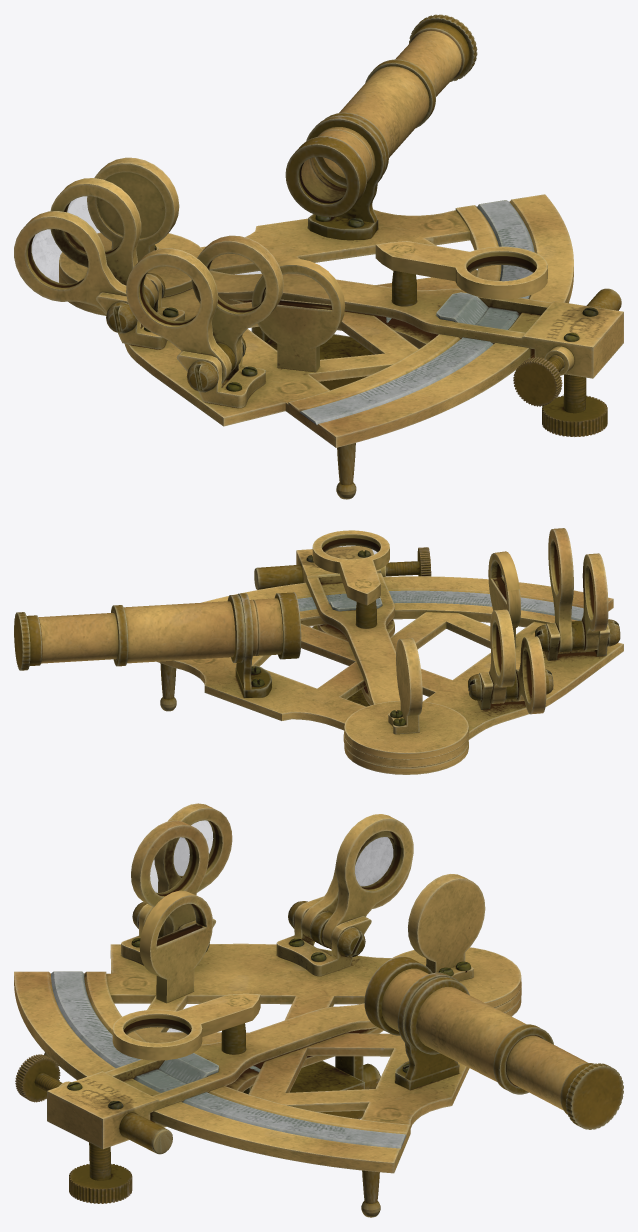
Rendered from vintage-sextant.glb.
3 views of the same model, one above another, from view 1: azimuth 30°, elevation 25°; view 2: azimuth 150°, elevation 25°; view 3: azimuth 270°, elevation 25° (orthographic). The views are drawn at different scales.
Parts seen in each view (by area): view 1: Body_Lowpoly, Magnifier_Lowpoly, Scope_Lowpoly, Lenses_Lowpoly, Middle_Lowpoly, Hinges_Lowpoly, Scope2_Lowpoly, Block_Lowpoly, Screws_Lowpoly; view 2: Body_Lowpoly, Magnifier_Lowpoly, Scope_Lowpoly, Hinges_Lowpoly, Middle_Lowpoly, Scope2_Lowpoly, Lenses_Lowpoly, Screws_Lowpoly; view 3: Body_Lowpoly, Magnifier_Lowpoly, Scope_Lowpoly, Middle_Lowpoly, Scope2_Lowpoly, Hinges_Lowpoly, Lenses_Lowpoly, Block_Lowpoly, Screws_Lowpoly.
Boxes of the visible parts, x1,y1,x2,y2 form: Body_Lowpoly: (59, 194, 621, 499); Magnifier_Lowpoly: (14, 157, 547, 383); Scope_Lowpoly: (285, 59, 435, 240); Lenses_Lowpoly: (30, 157, 534, 324); Middle_Lowpoly: (209, 270, 623, 378); Hinges_Lowpoly: (59, 232, 265, 407); Scope2_Lowpoly: (395, 14, 477, 96); Block_Lowpoly: (436, 292, 488, 324); Screws_Lowpoly: (144, 215, 598, 391); Body_Lowpoly: (157, 547, 623, 767); Magnifier_Lowpoly: (312, 528, 608, 734); Scope_Lowpoly: (111, 592, 301, 697); Hinges_Lowpoly: (344, 622, 609, 774); Middle_Lowpoly: (296, 545, 400, 705); Scope2_Lowpoly: (14, 612, 118, 670); Lenses_Lowpoly: (323, 542, 527, 653); Screws_Lowpoly: (251, 550, 405, 726); Body_Lowpoly: (14, 901, 521, 1217); Magnifier_Lowpoly: (112, 803, 485, 1060); Scope_Lowpoly: (364, 956, 553, 1094); Middle_Lowpoly: (47, 1003, 383, 1149); Scope2_Lowpoly: (506, 1035, 623, 1129); Hinges_Lowpoly: (121, 896, 521, 1016); Lenses_Lowpoly: (124, 820, 400, 1042); Block_Lowpoly: (158, 1053, 218, 1083); Screws_Lowpoly: (67, 938, 470, 1109).
Size of the model in its own units: 0.0134 by 0.00538 by 0.0133.
Materials: 2 (2 with a texture image).
